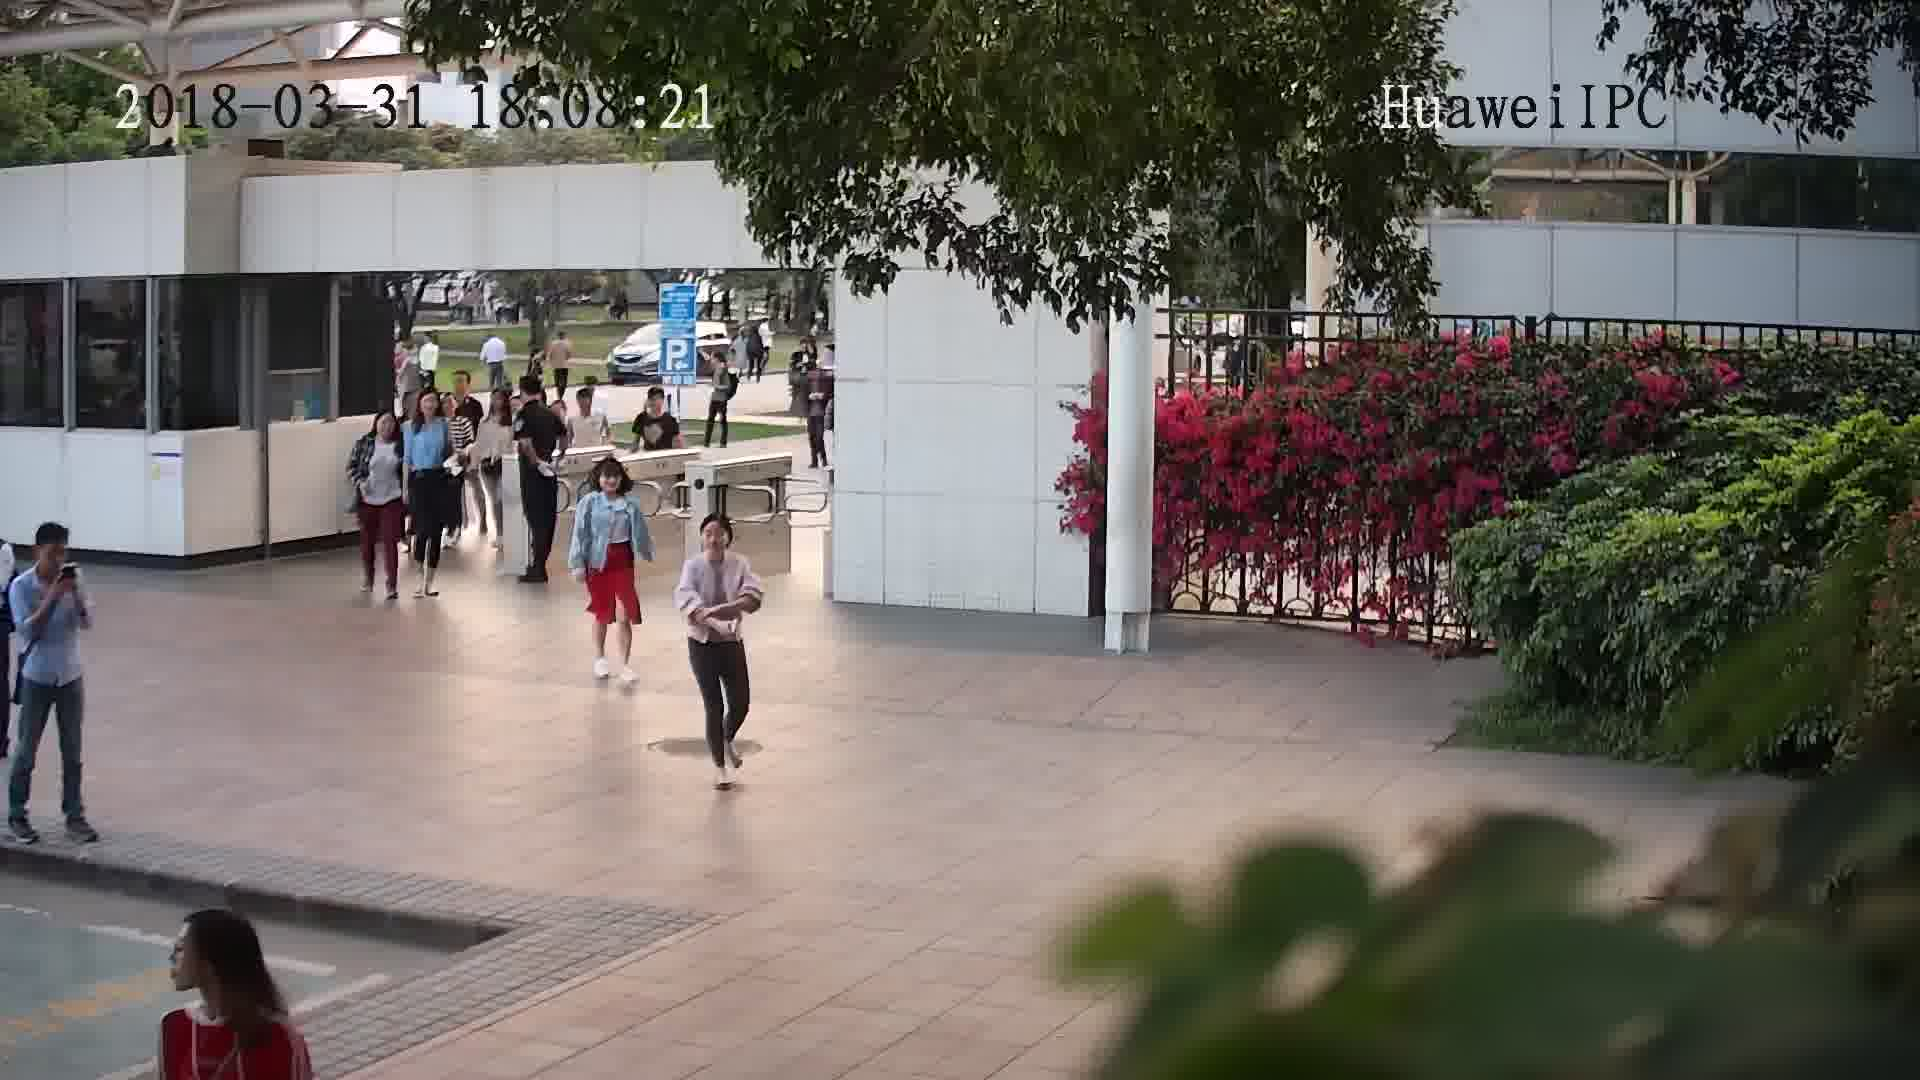face: (153, 920, 225, 992)
person: (160, 904, 304, 1061), (11, 522, 86, 609), (687, 514, 747, 578), (580, 456, 641, 517), (353, 404, 404, 457), (400, 386, 451, 437), (512, 373, 559, 425), (635, 380, 682, 428), (566, 380, 611, 428), (479, 386, 515, 433), (451, 367, 486, 413), (710, 349, 738, 380), (413, 327, 442, 355), (546, 327, 571, 353), (479, 327, 506, 350)
